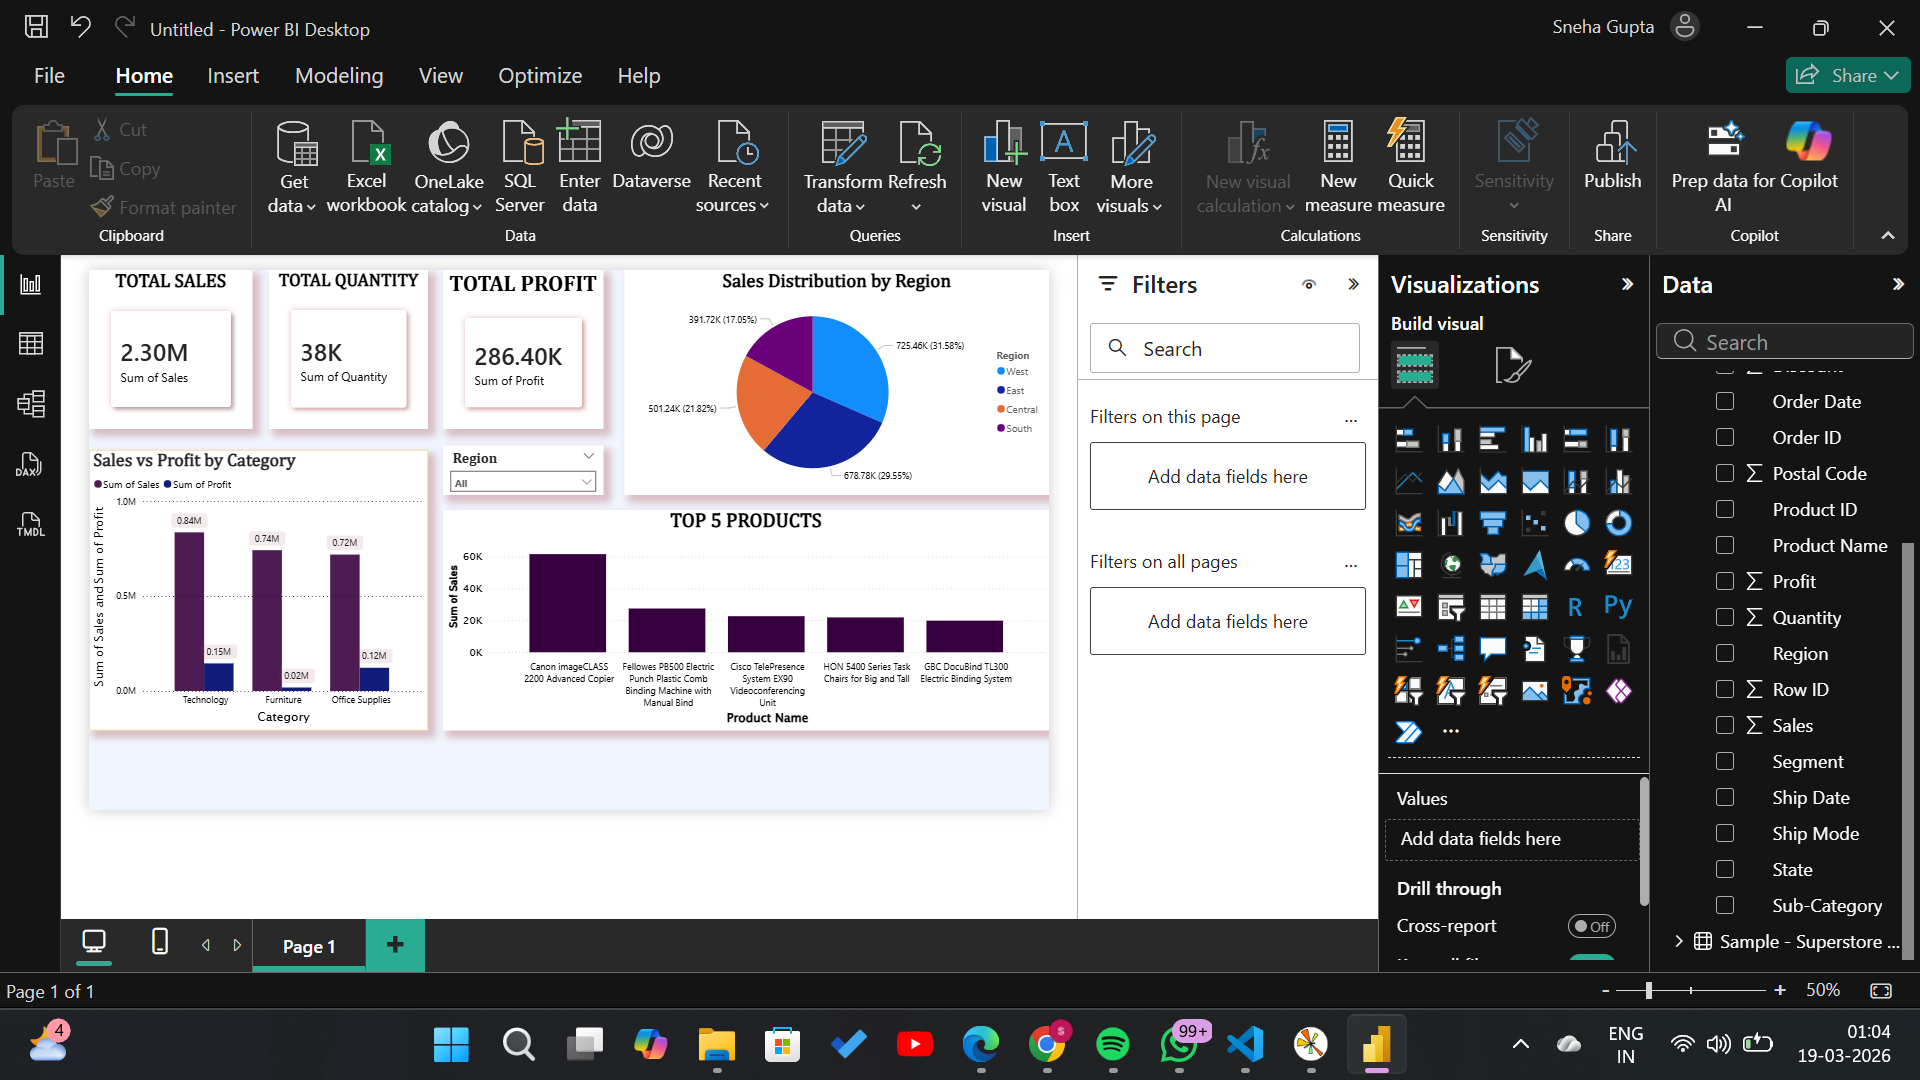

This screenshot's page, from the dashboard's own definition file:
{"tool":"powerbi","page":{"name":"Page 1","canvas":[1280,720],"ordinal":0},"visuals":[{"type":"clusteredColumnChart","title":"Sales vs Profit by Category","fields":{"Category":["Sample - Superstore.Category"],"Y":["Sum(Sample - Superstore.Sales)","Sum(Sample - Superstore.Profit)"]},"box":[0,240,452,374],"z":0},{"type":"pieChart","title":"Sales Distribution by Region","fields":{"Category":["Sample - Superstore.Region"],"Y":["Sum(Sample - Superstore.Sales)"]},"box":[714,0,566,300],"z":1000},{"type":"columnChart","title":"TOP 5 PRODUCTS","fields":{"Category":["Sample - Superstore.Product Name"],"Y":["Sum(Sample - Superstore.Sales)"]},"box":[472,320,808,294],"z":2000},{"type":"cardVisual","title":"TOTAL SALES","fields":{"Data":["Sum(Sample - Superstore.Sales)"]},"box":[0,0,218,212],"z":3000},{"type":"cardVisual","title":"TOTAL PROFIT","fields":{"Data":["Sum(Sample - Superstore.Profit)"]},"box":[472,0,214,212],"z":4000},{"type":"cardVisual","title":"TOTAL QUANTITY ","fields":{"Data":["Sum(Sample - Superstore.Quantity)"]},"box":[239,0,212,212],"z":5000},{"type":"slicer","fields":{"Values":["Sample - Superstore.Region"]},"box":[472,234,214,66],"z":6000}]}

Visuals, with their boxes on the page's 1280x720 design canvas (x1, y1, x2, y2). These are canvas units, not pixel positions in the 1920x1080 screenshot, which may show the page scaled, cropped or inside an application window:
"Sales vs Profit by Category" clusteredColumnChart: x1=0 y1=240 x2=452 y2=614
"Sales Distribution by Region" pieChart: x1=714 y1=0 x2=1280 y2=300
"TOP 5 PRODUCTS" columnChart: x1=472 y1=320 x2=1280 y2=614
"TOTAL SALES" cardVisual: x1=0 y1=0 x2=218 y2=212
"TOTAL PROFIT" cardVisual: x1=472 y1=0 x2=686 y2=212
"TOTAL QUANTITY " cardVisual: x1=239 y1=0 x2=451 y2=212
slicer - Sample - Superstore.Region: x1=472 y1=234 x2=686 y2=300
